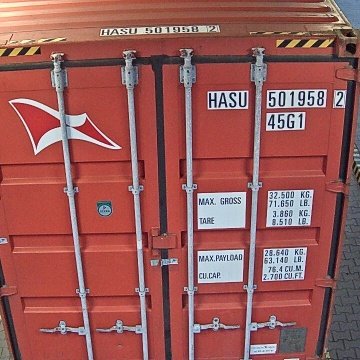serial_id: (208, 90, 344, 107)
